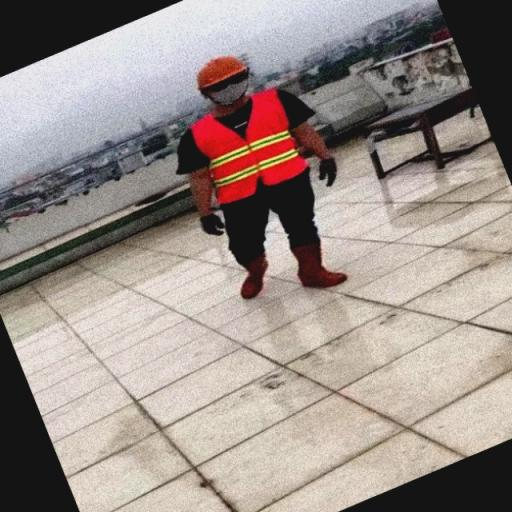Person: (172, 46, 366, 308)
boots: (287, 236, 352, 294), (232, 253, 268, 301)
gloves: (200, 208, 230, 237), (318, 155, 340, 190)
goggles: (194, 70, 251, 84)
helmet: (194, 52, 253, 90)
vest: (186, 93, 314, 200)
